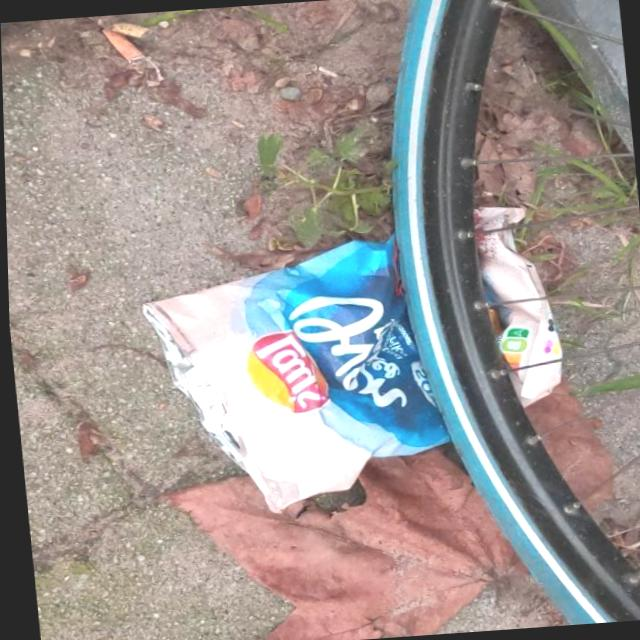Plastic: (128, 197, 579, 522)
